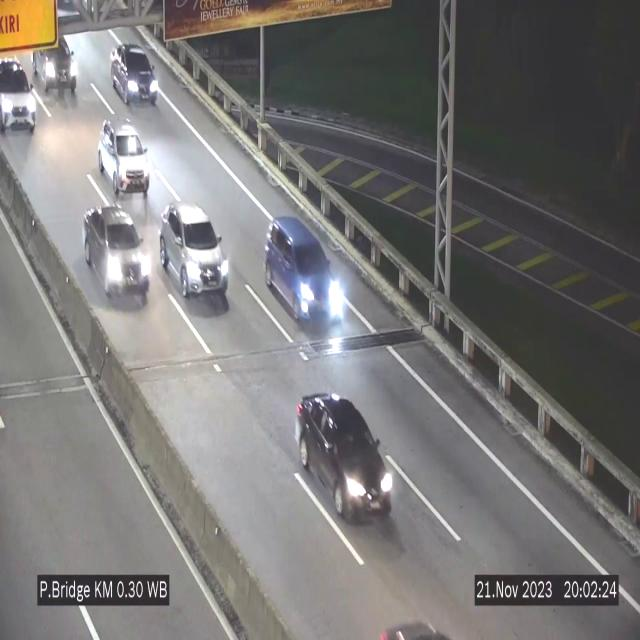Car: (294, 392, 396, 529), (264, 217, 346, 323), (80, 203, 154, 314), (160, 202, 230, 300), (99, 118, 150, 198), (0, 39, 39, 137), (33, 22, 79, 105), (110, 44, 158, 104)
